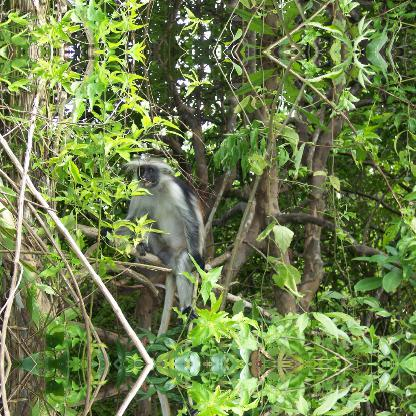Monkey: (115, 157, 207, 327)
